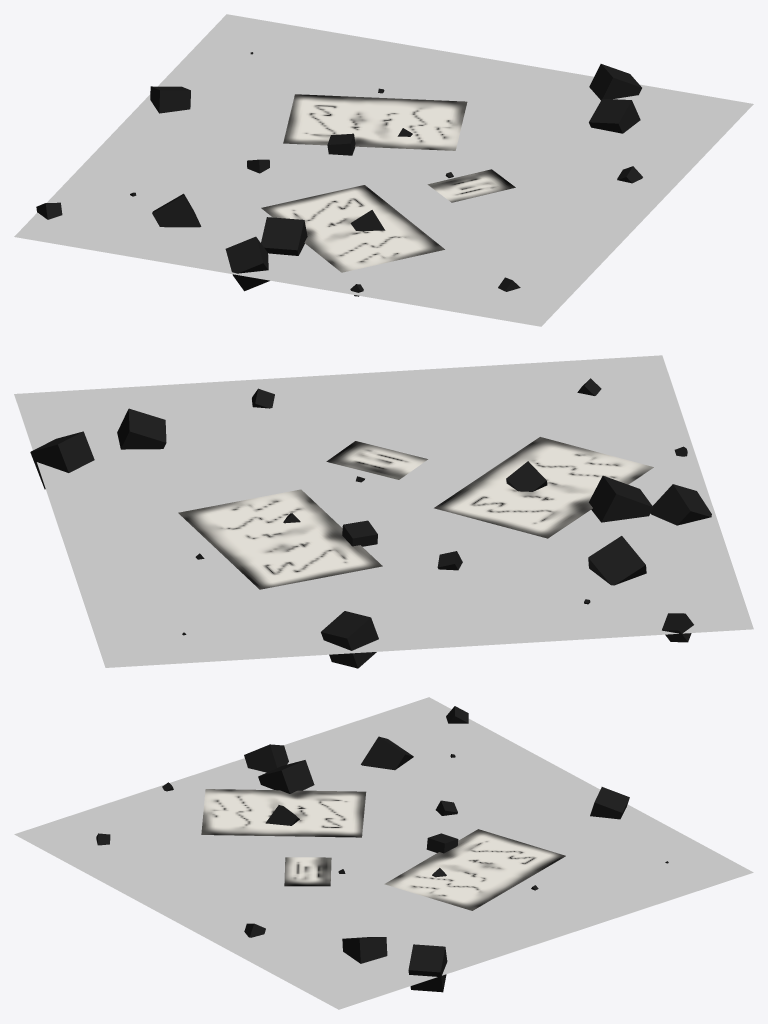
The model's file is Trash2.fbx.
3 views of the same model, one above another, from view 1: azimuth 30°, elevation 25°; view 2: azimuth 150°, elevation 25°; view 3: azimuth 270°, elevation 25° (orthographic). The views are drawn at different scales.
Visible parts, largest first — view 1: Trash2, Trash.003, Trash2|TrashP|Dupli|9, Trash2|TrashP|Dupli|5, Trash2|TrashP|Dupli|15, Trash2|TrashP|Dupli|3, Trash2|TrashP|Dupli|, Trash2|TrashP|Dupli|17, Trash2|TrashP|Dupli|10; view 2: Trash2, Trash.003, Trash2|TrashP|Dupli|17, Trash2|TrashP|Dupli|5, Trash2|TrashP|Dupli|, Trash2|TrashP|Dupli|3, Trash2|TrashP|Dupli|15, Trash2|TrashP|Dupli|9, Trash2|TrashP|Dupli|4, Trash2|TrashP|Dupli|10, Trash2|TrashP|Dupli|13; view 3: Trash2, Trash.003, Trash2|TrashP|Dupli|3, Trash2|TrashP|Dupli|5, Trash2|TrashP|Dupli|, Trash2|TrashP|Dupli|15, Trash2|TrashP|Dupli|9, Trash2|TrashP|Dupli|17.
Part boxes in pixels (x1,y1,x2,y2): Trash2: (14, 14, 753, 326); Trash.003: (261, 94, 515, 272); Trash2|TrashP|Dupli|9: (225, 236, 269, 291); Trash2|TrashP|Dupli|5: (261, 217, 307, 255); Trash2|TrashP|Dupli|15: (589, 99, 640, 133); Trash2|TrashP|Dupli|3: (589, 64, 641, 100); Trash2|TrashP|Dupli|: (152, 193, 201, 227); Trash2|TrashP|Dupli|17: (150, 86, 190, 113); Trash2|TrashP|Dupli|10: (327, 133, 355, 155); Trash2: (14, 355, 753, 667); Trash.003: (178, 437, 653, 589); Trash2|TrashP|Dupli|17: (321, 611, 378, 668); Trash2|TrashP|Dupli|5: (589, 475, 653, 522); Trash2|TrashP|Dupli|: (588, 536, 646, 585); Trash2|TrashP|Dupli|3: (30, 431, 94, 489); Trash2|TrashP|Dupli|15: (117, 408, 166, 449); Trash2|TrashP|Dupli|9: (650, 484, 711, 525); Trash2|TrashP|Dupli|4: (506, 461, 547, 491); Trash2|TrashP|Dupli|10: (342, 520, 377, 546); Trash2|TrashP|Dupli|13: (662, 613, 693, 642); Trash2: (14, 697, 753, 1009); Trash.003: (201, 789, 565, 910); Trash2|TrashP|Dupli|3: (408, 944, 447, 992); Trash2|TrashP|Dupli|5: (258, 760, 314, 793); Trash2|TrashP|Dupli|: (361, 736, 413, 770); Trash2|TrashP|Dupli|15: (342, 937, 387, 963); Trash2|TrashP|Dupli|9: (244, 744, 288, 772); Trash2|TrashP|Dupli|17: (590, 787, 629, 819).
Bounding box in the file's own units: 291 × 291 × 21.6.
